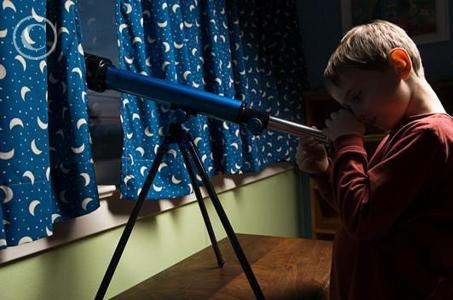person: (299, 20, 453, 300)
